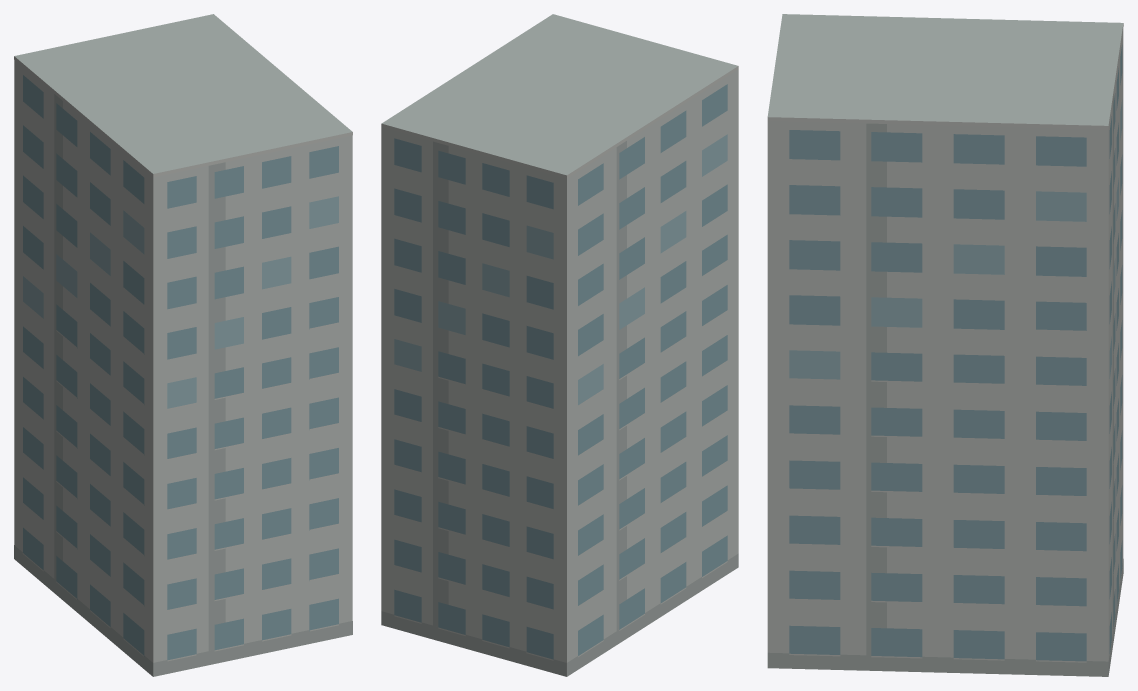
Rendered from residential-0243cb12-37e7-442d-bf7e-eba4331f0ee5.glb.
3 views of the same model, side by side, from view 1: azimuth 30°, elevation 25°; view 2: azimuth 150°, elevation 25°; view 3: azimuth 270°, elevation 25° (orthographic). The views are drawn at different scales.
Visible parts, largest first — view 1: residential-0243cb12-37e7-442d-bf7e-eba4331f0ee5.tmp; view 2: residential-0243cb12-37e7-442d-bf7e-eba4331f0ee5.tmp; view 3: residential-0243cb12-37e7-442d-bf7e-eba4331f0ee5.tmp.
Boxes of the visible parts, left/top/right/bottom form: residential-0243cb12-37e7-442d-bf7e-eba4331f0ee5.tmp: left=14, top=14, right=352, bottom=676; residential-0243cb12-37e7-442d-bf7e-eba4331f0ee5.tmp: left=381, top=14, right=738, bottom=676; residential-0243cb12-37e7-442d-bf7e-eba4331f0ee5.tmp: left=767, top=14, right=1123, bottom=676.
Size of the model in its own units: 15.25 by 35 by 20.49.
